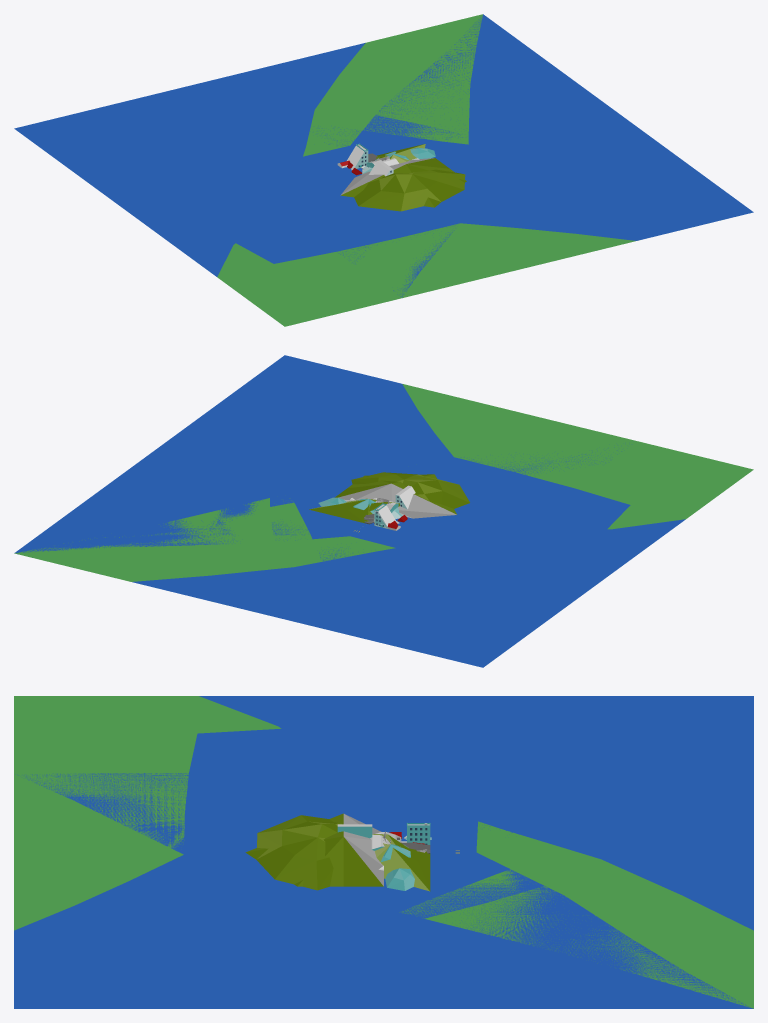
3 views of the same model, one above another, from view 1: azimuth 30°, elevation 25°; view 2: azimuth 150°, elevation 25°; view 3: azimuth 270°, elevation 25° (orthographic). The views are drawn at different scales.
Visible parts, largest first — view 1: nc_042_lod0, nc_046_lod0, nc_002_lod0, nc_049_lod0, nc_045_lod0, nc_070_lod0, nc_071_lod0, nc_043_lod0_s1v0; view 2: nc_042_lod0, nc_046_lod0, nc_002_lod0, nc_045_lod0, nc_049_lod0, nc_071_lod0, nc_070_lod0, nc_003_lod0, nc_043_lod0_s1v0; view 3: nc_042_lod0, nc_046_lod0, nc_002_lod0, nc_049_lod0, nc_045_lod0, nc_070_lod0, nc_047_lod0, nc_071_lod0, nc_003_lod0, nc_043_lod0_s1v0, nc_089_lod0.
Part boxes in pixels (bbox=[...]): nc_042_lod0: bbox=[236, 14, 753, 297]; nc_046_lod0: bbox=[14, 18, 533, 276]; nc_002_lod0: bbox=[217, 14, 635, 326]; nc_049_lod0: bbox=[285, 223, 633, 326]; nc_045_lod0: bbox=[303, 14, 482, 156]; nc_070_lod0: bbox=[354, 158, 465, 211]; nc_071_lod0: bbox=[340, 158, 466, 207]; nc_043_lod0_s1v0: bbox=[347, 145, 393, 176]; nc_042_lod0: bbox=[14, 355, 630, 553]; nc_046_lod0: bbox=[22, 458, 685, 667]; nc_002_lod0: bbox=[15, 384, 753, 553]; nc_045_lod0: bbox=[14, 502, 395, 581]; nc_049_lod0: bbox=[403, 384, 752, 491]; nc_071_lod0: bbox=[335, 474, 456, 518]; nc_070_lod0: bbox=[350, 472, 469, 508]; nc_003_lod0: bbox=[309, 498, 376, 523]; nc_043_lod0_s1v0: bbox=[374, 485, 415, 528]; nc_042_lod0: bbox=[14, 728, 753, 1008]; nc_046_lod0: bbox=[199, 696, 753, 1006]; nc_002_lod0: bbox=[14, 696, 751, 1007]; nc_049_lod0: bbox=[14, 697, 194, 929]; nc_045_lod0: bbox=[423, 821, 753, 1008]; nc_070_lod0: bbox=[256, 815, 383, 890]; nc_047_lod0: bbox=[18, 696, 281, 744]; nc_071_lod0: bbox=[245, 813, 383, 886]; nc_003_lod0: bbox=[375, 843, 430, 891]; nc_043_lod0_s1v0: bbox=[337, 824, 430, 844]; nc_089_lod0: bbox=[381, 844, 414, 890].
Size of what is drawn, in the model's own units: 4096 by 138 by 4096.
